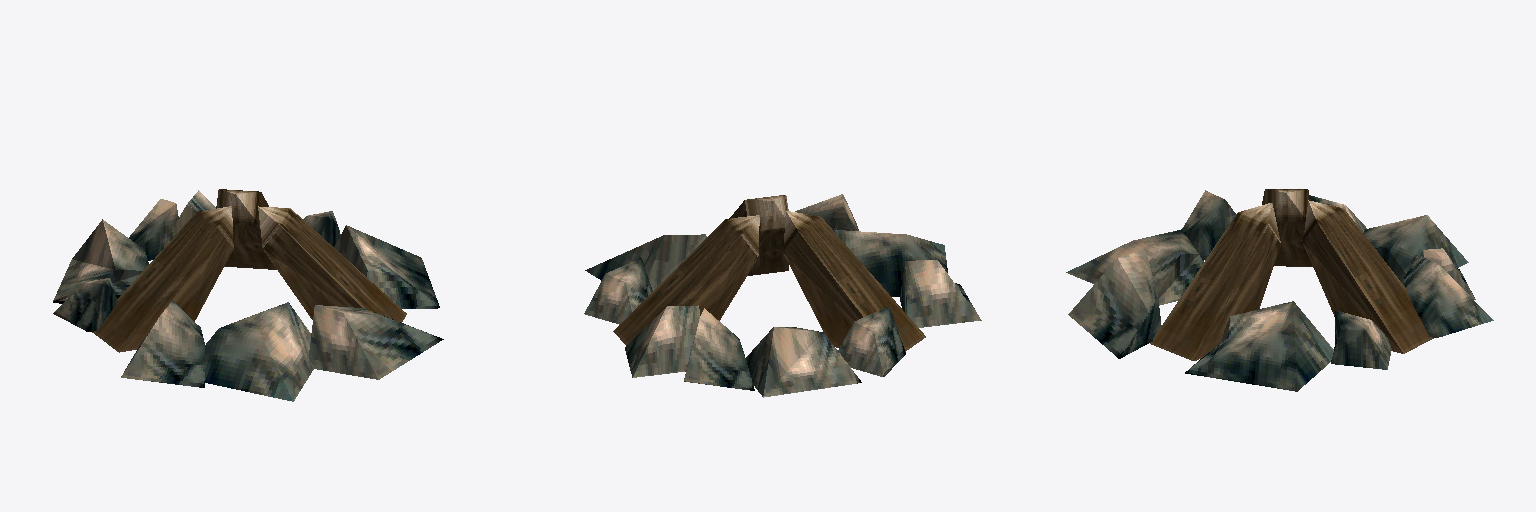
3 views of the same model, side by side, from view 1: azimuth 30°, elevation 25°; view 2: azimuth 150°, elevation 25°; view 3: azimuth 270°, elevation 25° (orthographic).
Parts seen in each view (by area): view 1: FirePit(m0); view 2: FirePit(m0); view 3: FirePit(m0).
Boxes of the visible parts, <box> form: FirePit(m0): <box>53,189,443,401</box>; FirePit(m0): <box>584,194,981,397</box>; FirePit(m0): <box>1066,189,1493,391</box>.
Bounding box in the file's own units: 2.3 × 0.6652 × 2.45.
Materials: 1 (1 with a texture image).